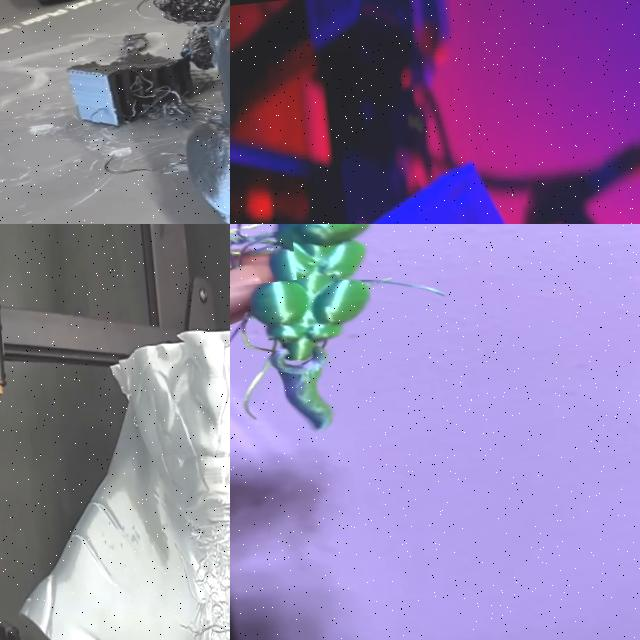spaghetti: (57, 24, 230, 138), (121, 493, 230, 640), (230, 224, 296, 299)
